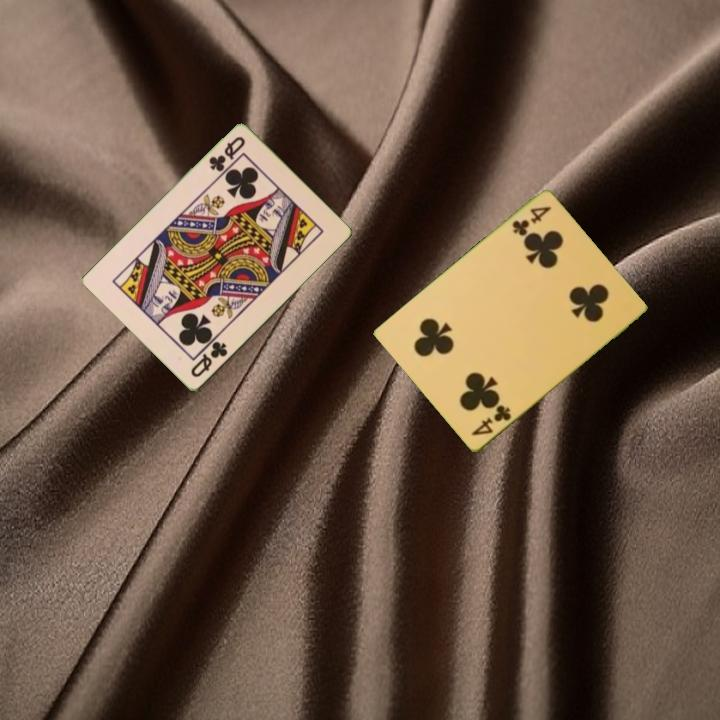4c: (468, 402, 514, 439), (508, 203, 554, 239)
Qc: (187, 338, 231, 381), (205, 133, 248, 175)
